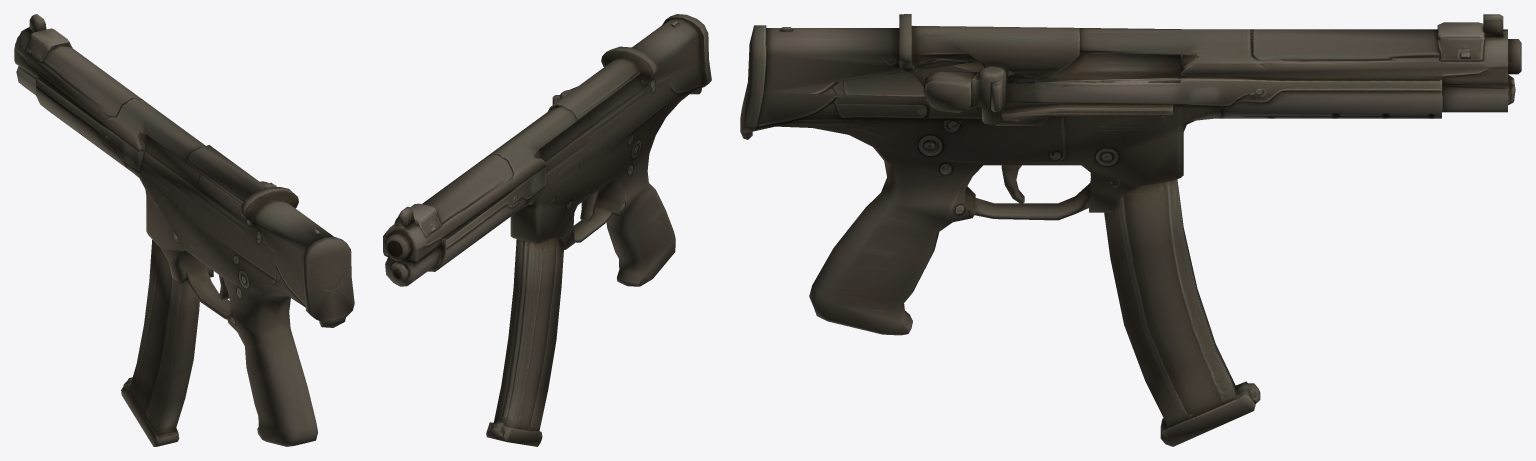
Rendered from smg.glb.
The picture shows the model from 3 angles, left to right: view 1: azimuth 30°, elevation 25°; view 2: azimuth 150°, elevation 25°; view 3: azimuth 270°, elevation 25°; orthographic projection. The views are drawn at different scales.
Visible parts, largest first — view 1: tripo_node_b7265287-1b10-4ce7-b1a4-bea88844a538; view 2: tripo_node_b7265287-1b10-4ce7-b1a4-bea88844a538; view 3: tripo_node_b7265287-1b10-4ce7-b1a4-bea88844a538.
Boxes of the visible parts, box(x1,y1,x2,y2) form: tripo_node_b7265287-1b10-4ce7-b1a4-bea88844a538: box(14, 14, 354, 446); tripo_node_b7265287-1b10-4ce7-b1a4-bea88844a538: box(383, 14, 711, 446); tripo_node_b7265287-1b10-4ce7-b1a4-bea88844a538: box(740, 14, 1521, 446).
Size of the model in its own units: 0.1309 by 0.5996 by 0.998.
1 material, 1 textured.
